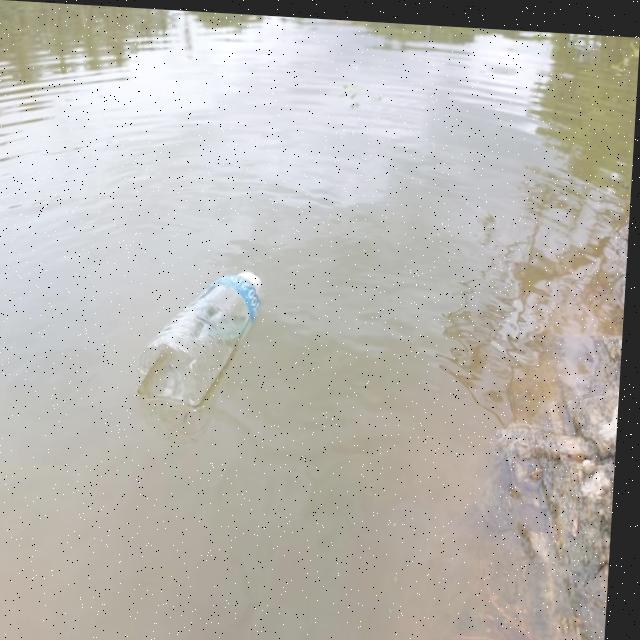waterbottle: (142, 247, 308, 415)
